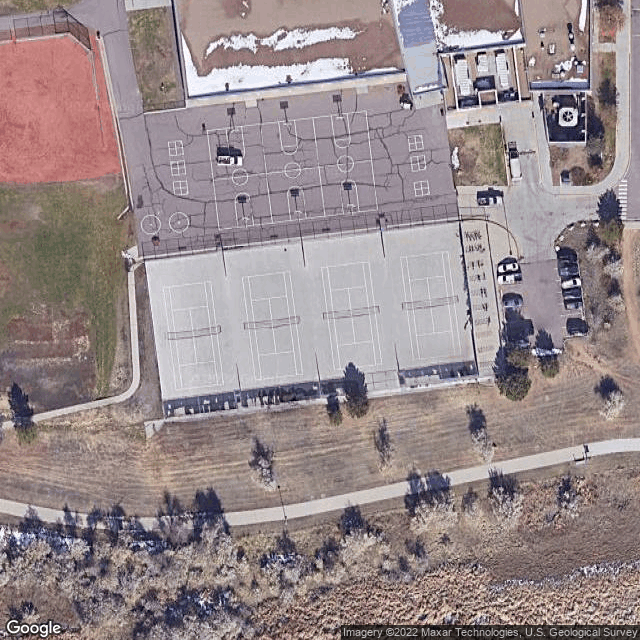Court: (317, 260, 384, 371), (160, 280, 225, 392), (238, 269, 303, 381), (398, 249, 463, 361)
